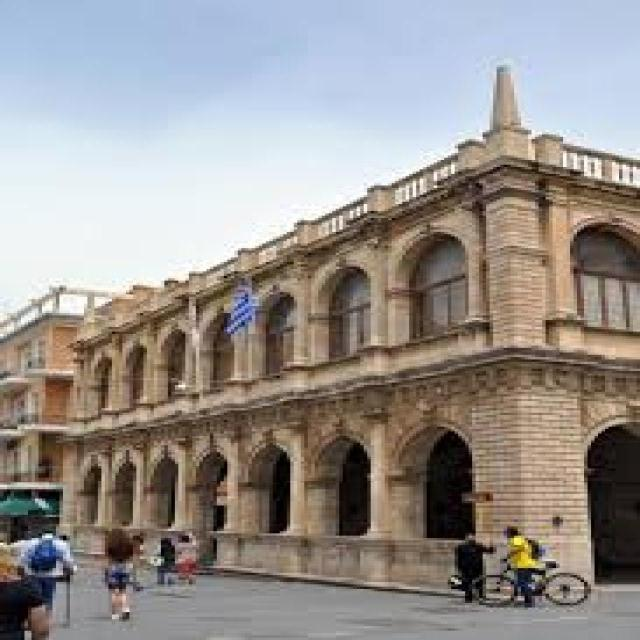Loggia: (70, 42, 640, 595)
